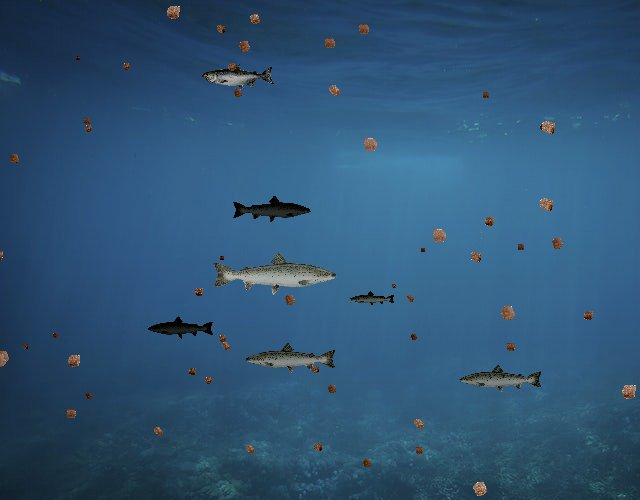Fish: (210, 250, 339, 296), (244, 341, 338, 375), (458, 363, 544, 394), (232, 195, 313, 224), (202, 64, 275, 90), (147, 316, 215, 340), (350, 291, 397, 308)
Pellet: (614, 376, 640, 406), (159, 0, 187, 27), (322, 78, 346, 102), (232, 35, 256, 59), (243, 8, 266, 31), (4, 148, 25, 169), (222, 58, 241, 77), (211, 20, 230, 39), (80, 121, 96, 137), (536, 122, 549, 135), (19, 340, 31, 352)
